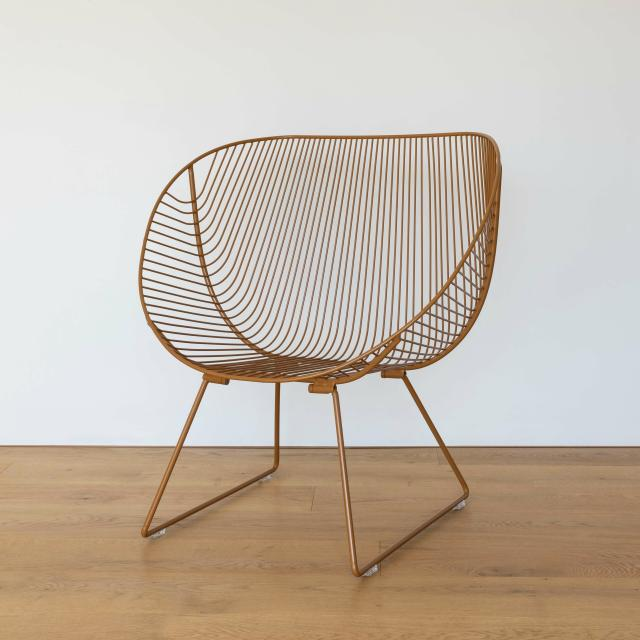chair: (66, 69, 574, 622)
